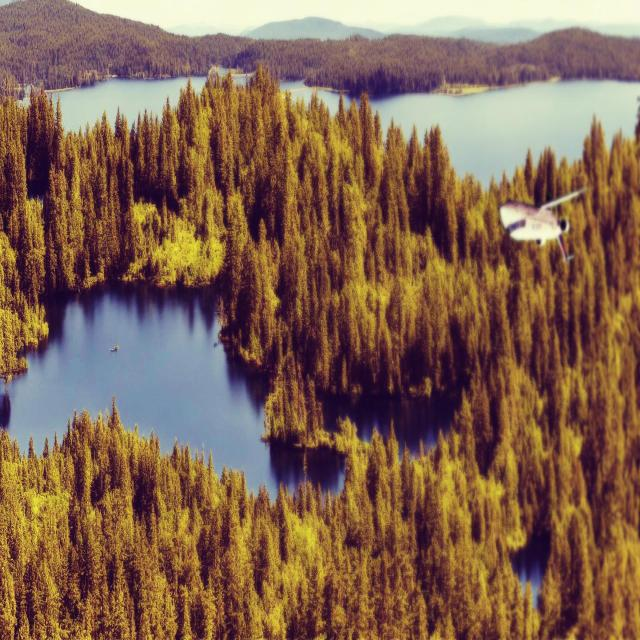airplane: (499, 185, 588, 262)
